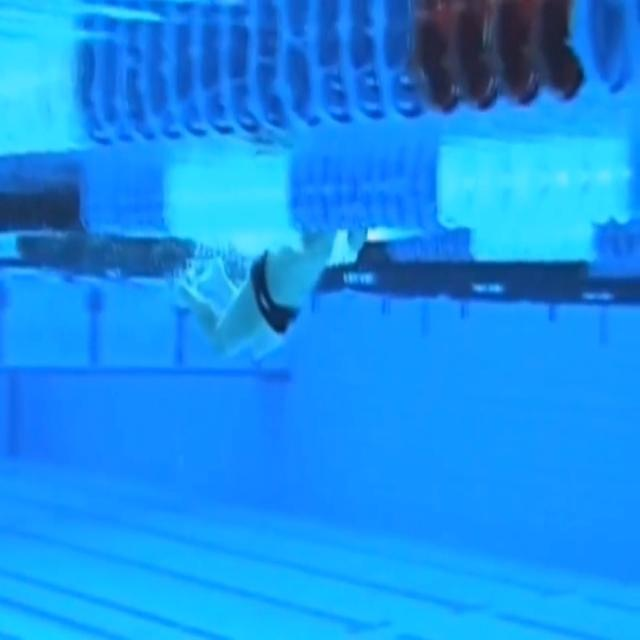Swimming: (174, 235, 369, 366)
